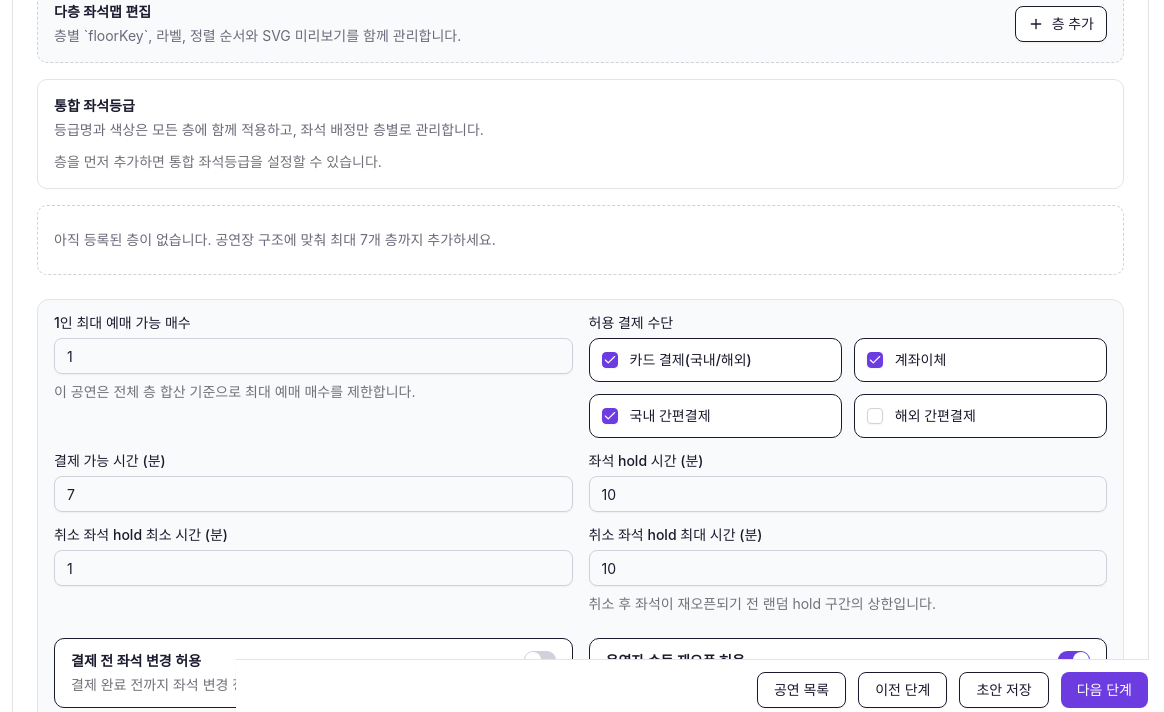
it: PerformanceForm removing a payment method from a public performance (audit #70) › asks again when another method is removed after the confirmation
(page scrolled)
Click the checkbox named "카드 결제(국내/해외)" next to "카드 결제(국내/해외)" at (610, 360), box [602,352,618,368]
(page scrolled)
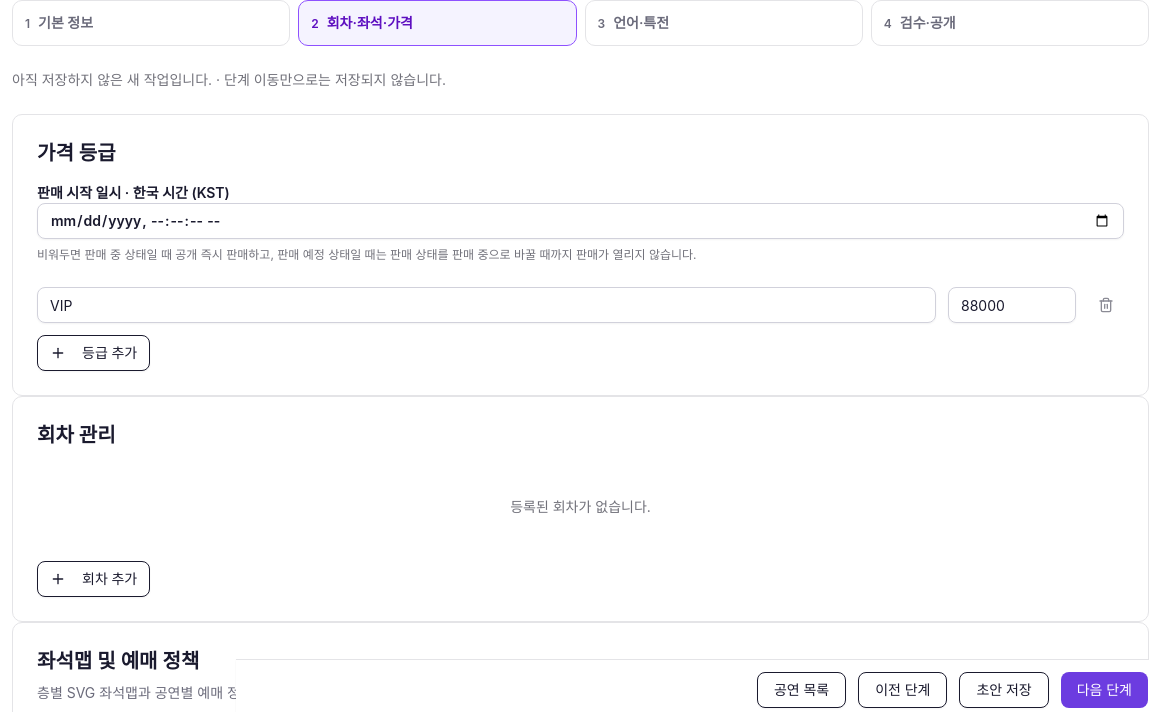
Click the button "4검수·공개" at (928, 22), box [871,0,1149,46]
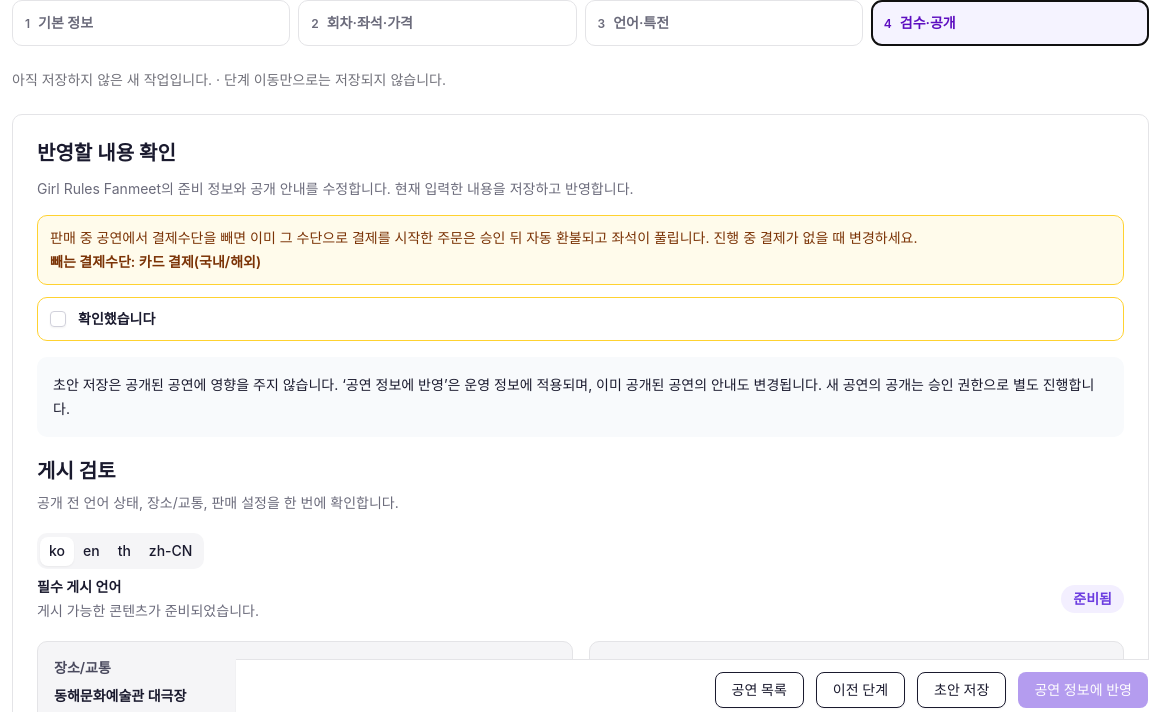
Click the checkbox named "확인했습니다" at (58, 319), box [50,311,66,327]
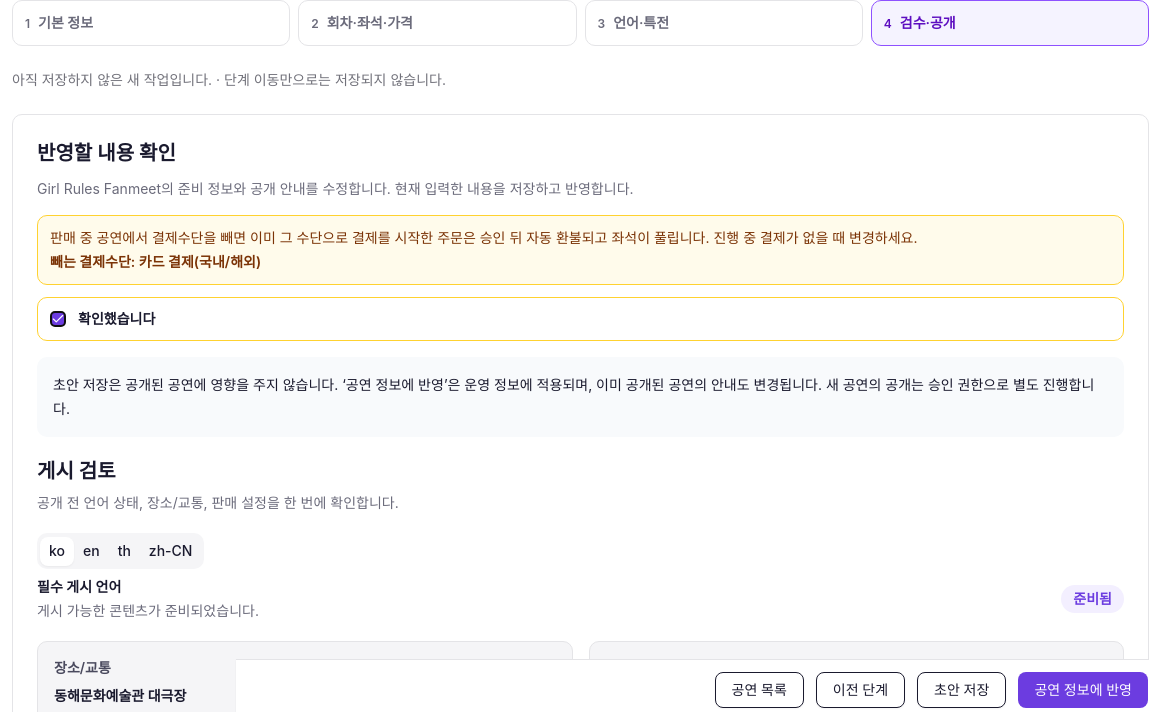
Expected: the button "공연 정보에 반영" is enabled, [1018,672,1148,708]
Click the button "2회차·좌석·가격" at (370, 22), box [298,0,577,46]
(page scrolled)
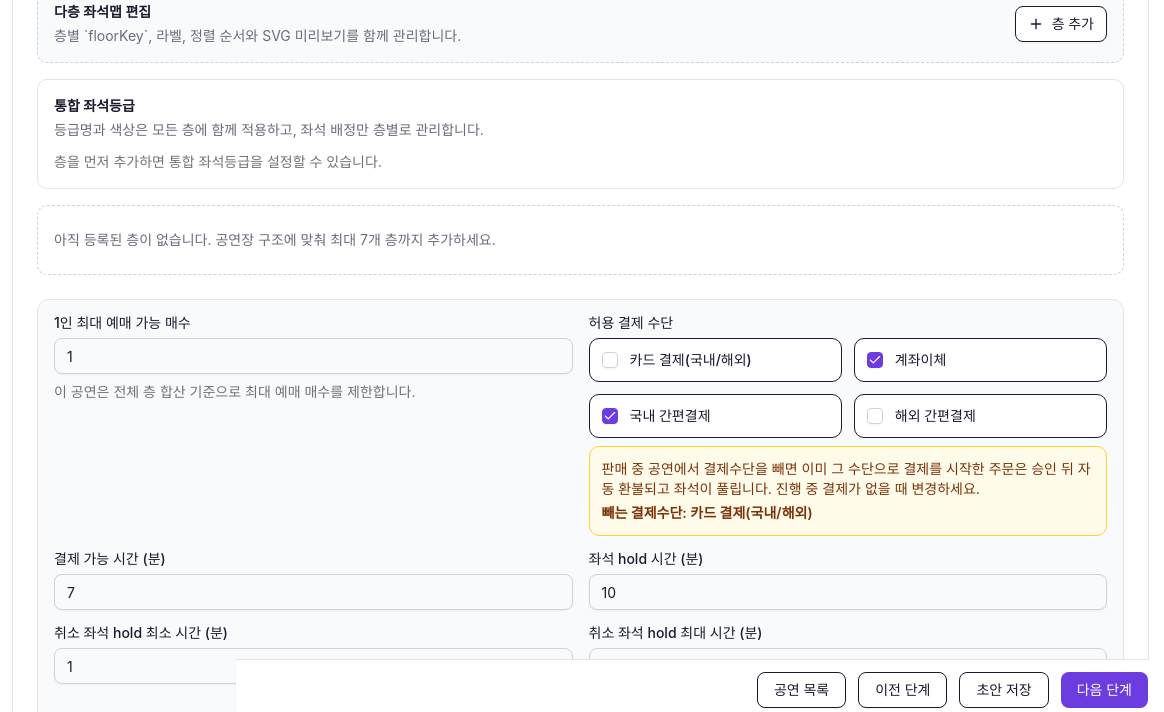
Click the checkbox named "계좌이체" next to "계좌이체" at (875, 360), box [867,352,883,368]
(page scrolled)
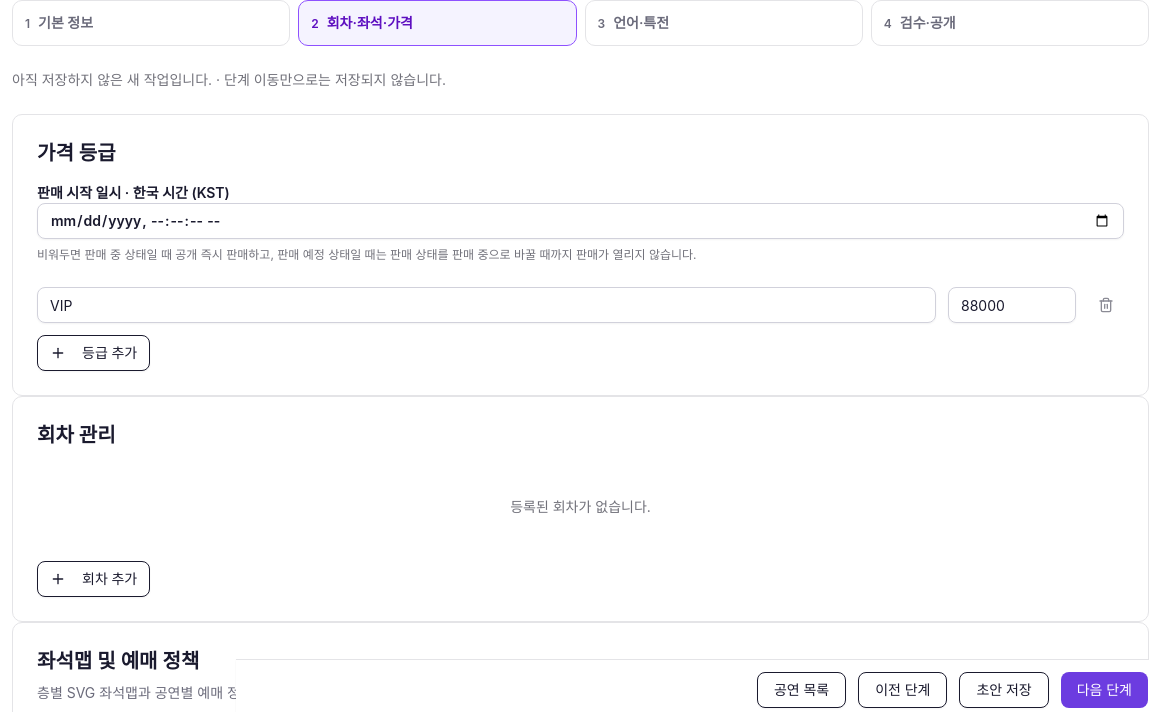
Click the button "4검수·공개" at (928, 22), box [871,0,1149,46]
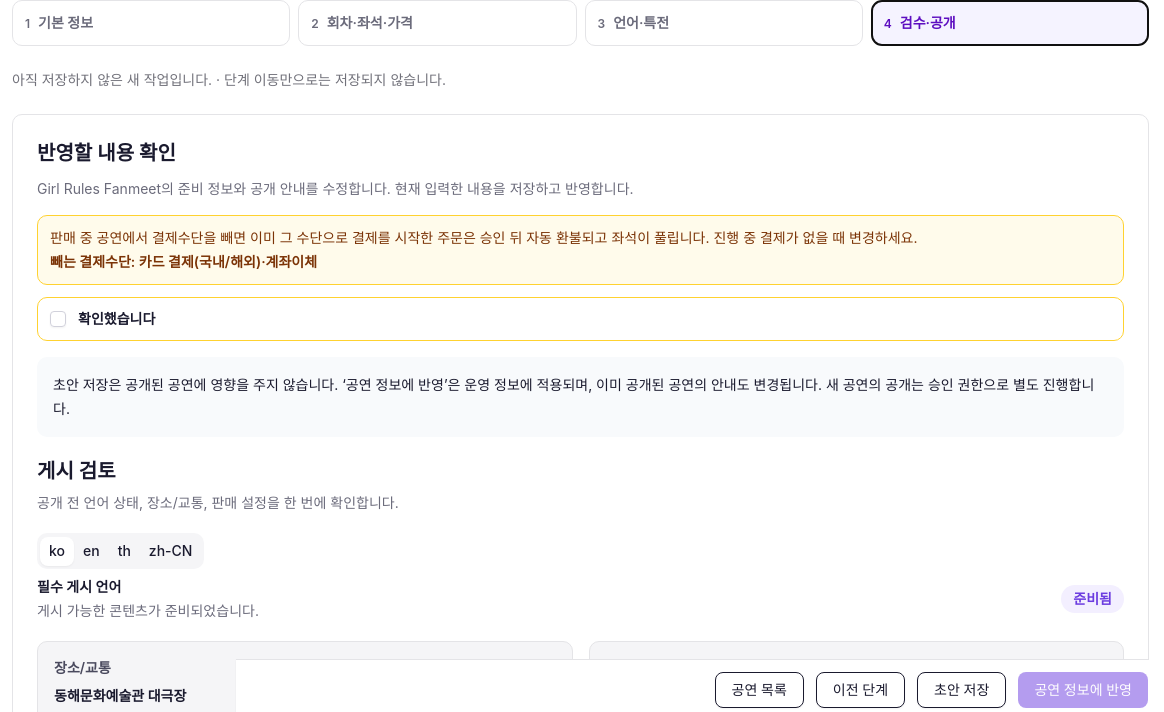
Expected: the checkbox named "확인했습니다" is not checked, [50,311,66,327]
Expected: the button "공연 정보에 반영" is disabled, [1018,672,1148,708]
